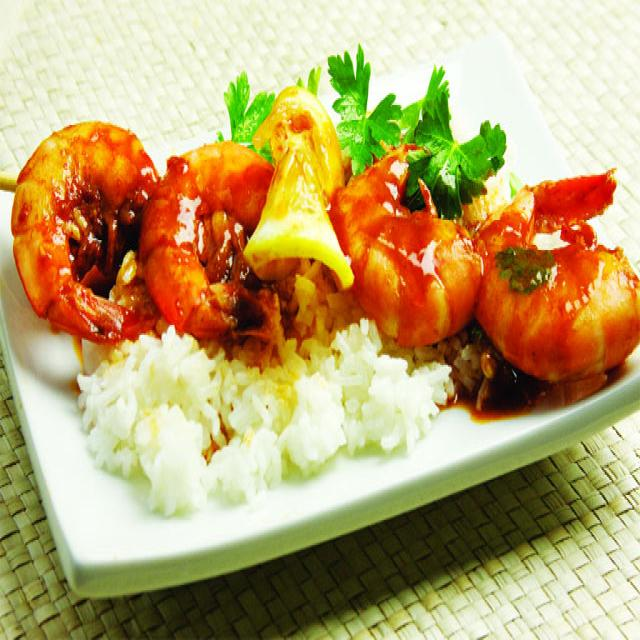com: (78, 320, 449, 517)
tom: (474, 173, 639, 380), (11, 122, 158, 338), (331, 153, 482, 345), (139, 142, 272, 335)
